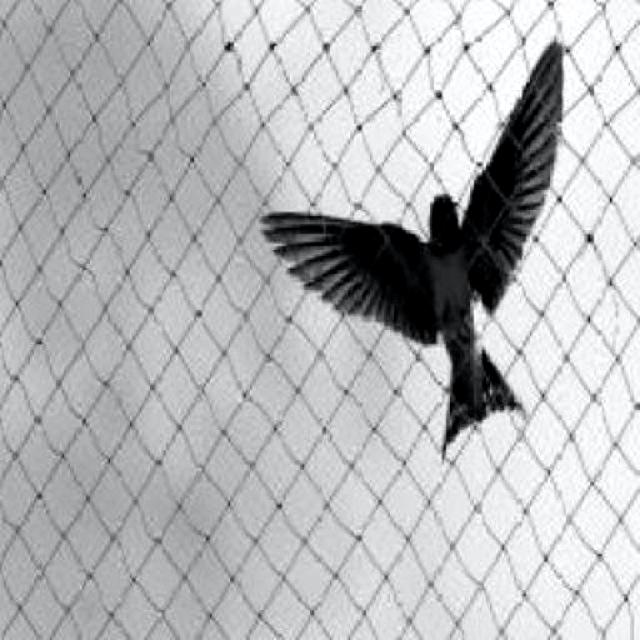airplane: (258, 35, 565, 458)
